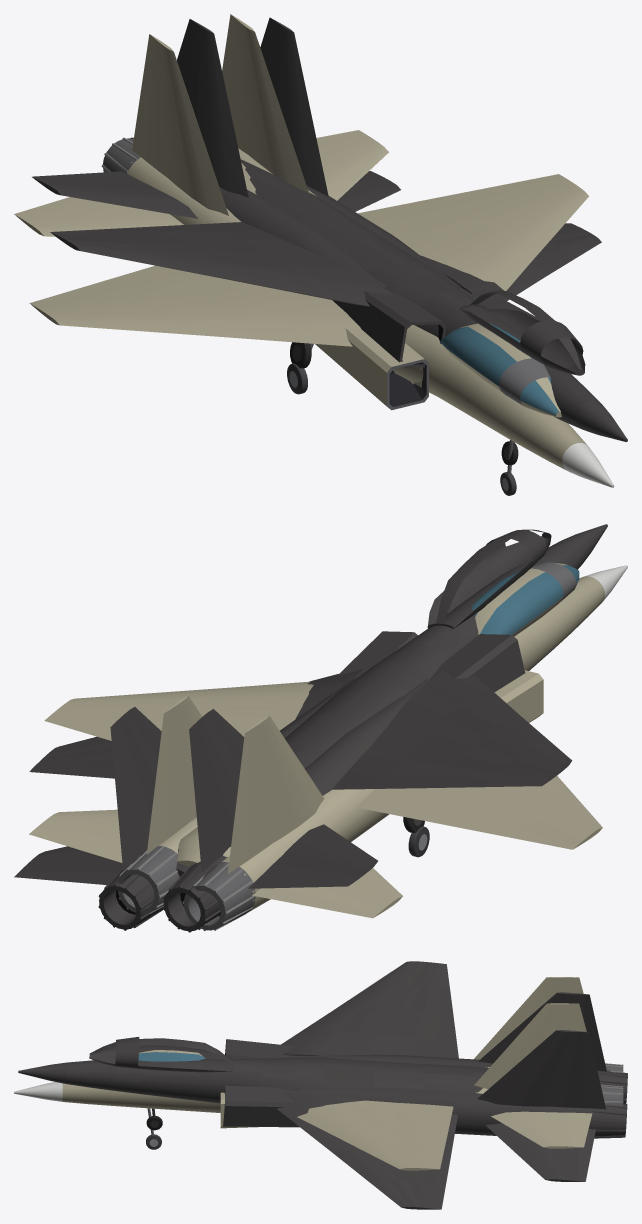
File: jet__f_15ia.glb
3 renders of one model, top to bottom at view 1: azimuth 30°, elevation 25°; view 2: azimuth 150°, elevation 25°; view 3: azimuth 270°, elevation 25°, orthographic. The views are drawn at different scales.
Parts seen in each view (by area): view 1: Fuselage_Mesh, Wreck; view 2: Wreck, Fuselage_Mesh; view 3: Wreck, Fuselage_Mesh.
Boxes of the visible parts, x1,y1,x2,y2 form: Fuselage_Mesh: [14, 14, 614, 495]; Wreck: [32, 17, 627, 464]; Wreck: [14, 524, 607, 932]; Fuselage_Mesh: [29, 562, 627, 931]; Wreck: [18, 961, 627, 1209]; Fuselage_Mesh: [14, 977, 623, 1170].
Size of what is drawn, in the model's own units: 13.4 by 5.61 by 19.63.
